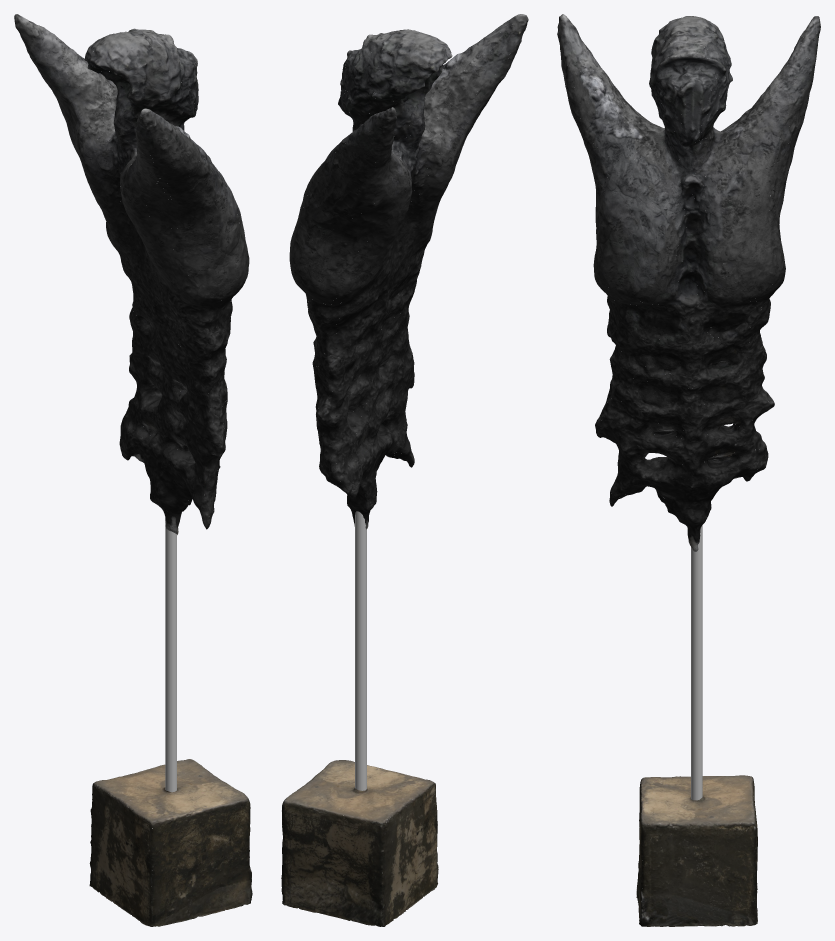
Rendered from seobowa.glb.
The picture shows the model from 3 angles, left to right: view 1: azimuth 30°, elevation 25°; view 2: azimuth 150°, elevation 25°; view 3: azimuth 270°, elevation 25°; orthographic projection. The views are drawn at different scales.
Visible parts, largest first — view 1: Mesh_0_Part_0, Cylinder; view 2: Mesh_0_Part_0, Cylinder; view 3: Mesh_0_Part_0, Cylinder.
Boxes of the visible parts, x1,y1,x2,y2 form: Mesh_0_Part_0: (14,14,252,926); Cylinder: (165,521,176,792); Mesh_0_Part_0: (281,14,528,926); Cylinder: (355,511,366,790); Mesh_0_Part_0: (557,14,820,926); Cylinder: (691,525,702,800).
Bounding box in the file's own units: 2.99 × 16.19 × 4.52.
2 materials, 1 textured.
